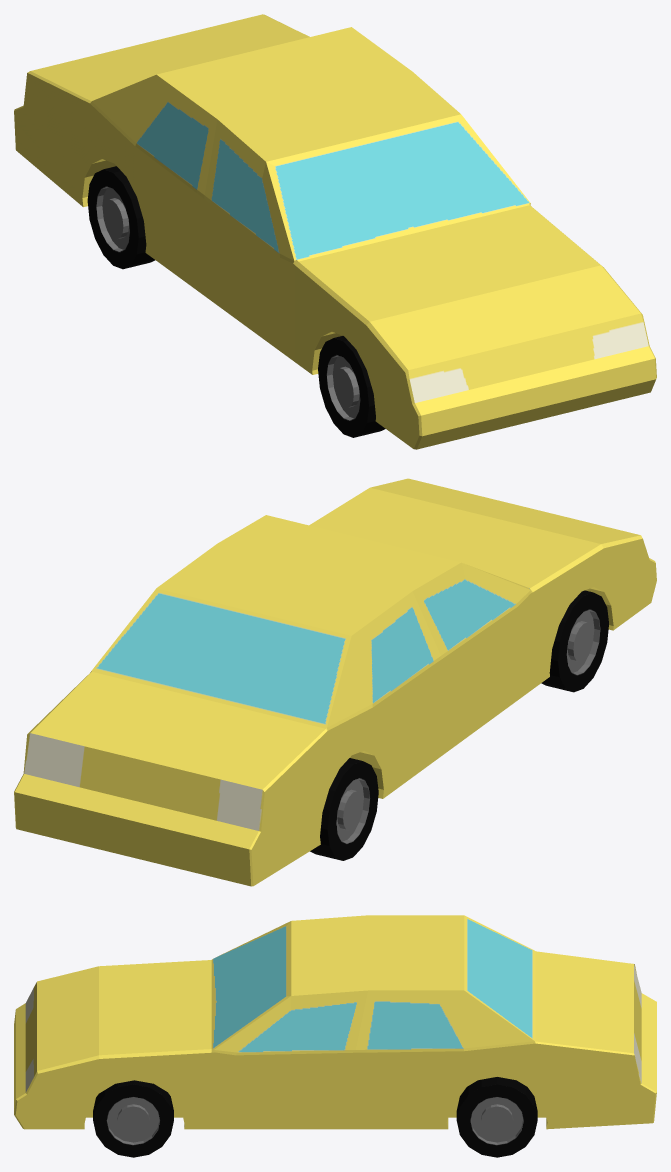
The model's file is car-taxi-v3.glb.
The picture shows the model from 3 angles, top to bottom: view 1: azimuth 30°, elevation 25°; view 2: azimuth 150°, elevation 25°; view 3: azimuth 270°, elevation 25°; orthographic projection. The views are drawn at different scales.
Parts seen in each view (by area): view 1: car_chasis, right_back_wheel, right_front_wheel; view 2: car_chasis, right_back_wheel, right_front_wheel; view 3: car_chasis, left_back_wheel, left_front_wheel.
Boxes of the visible parts, <box> form: car_chasis: <box>14,14,656,449</box>; right_back_wheel: <box>87,166,155,269</box>; right_front_wheel: <box>318,336,385,437</box>; car_chasis: <box>14,478,656,886</box>; right_back_wheel: <box>310,758,378,860</box>; right_front_wheel: <box>541,590,608,692</box>; car_chasis: <box>14,915,656,1129</box>; left_back_wheel: <box>456,1077,537,1157</box>; left_front_wheel: <box>93,1080,173,1157</box>.
Size of what is drawn, in the model's own units: 1.9 by 1.52 by 5.57.
Materials: 2 (2 with a texture image).
